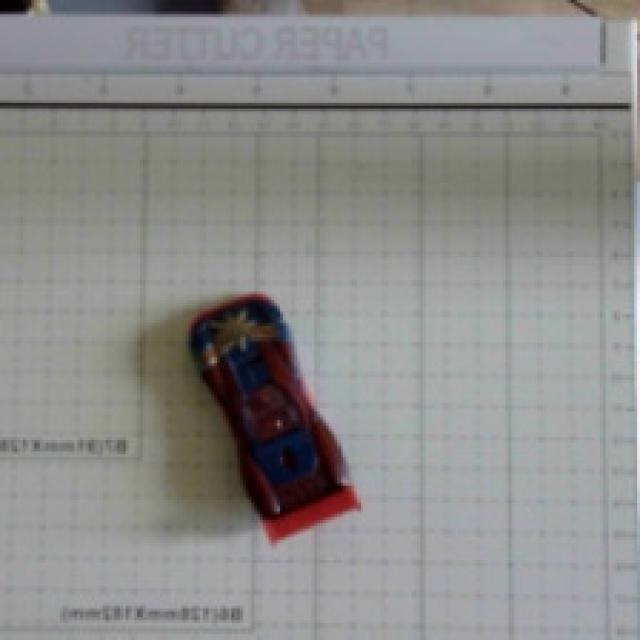Red Car: (127, 210, 396, 571)
